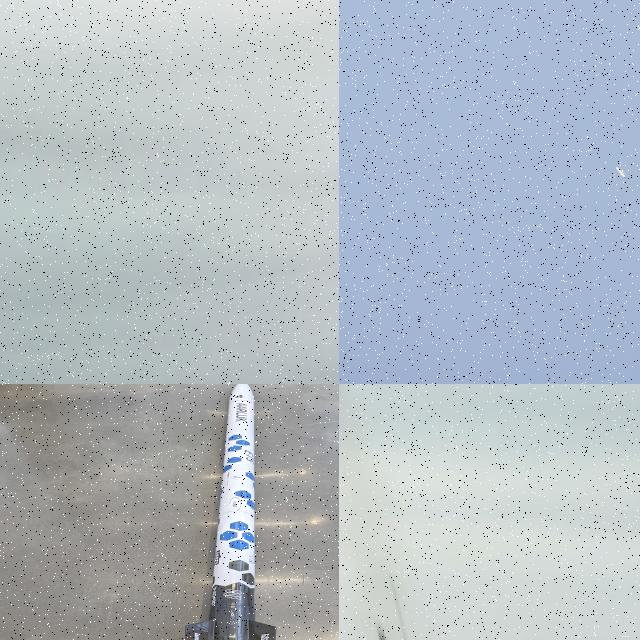Rocket: (184, 384, 277, 640), (615, 167, 629, 180)
